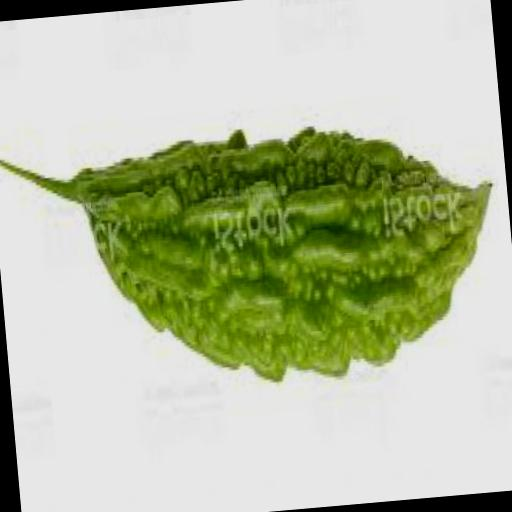biodegradable: (0, 111, 506, 414)
